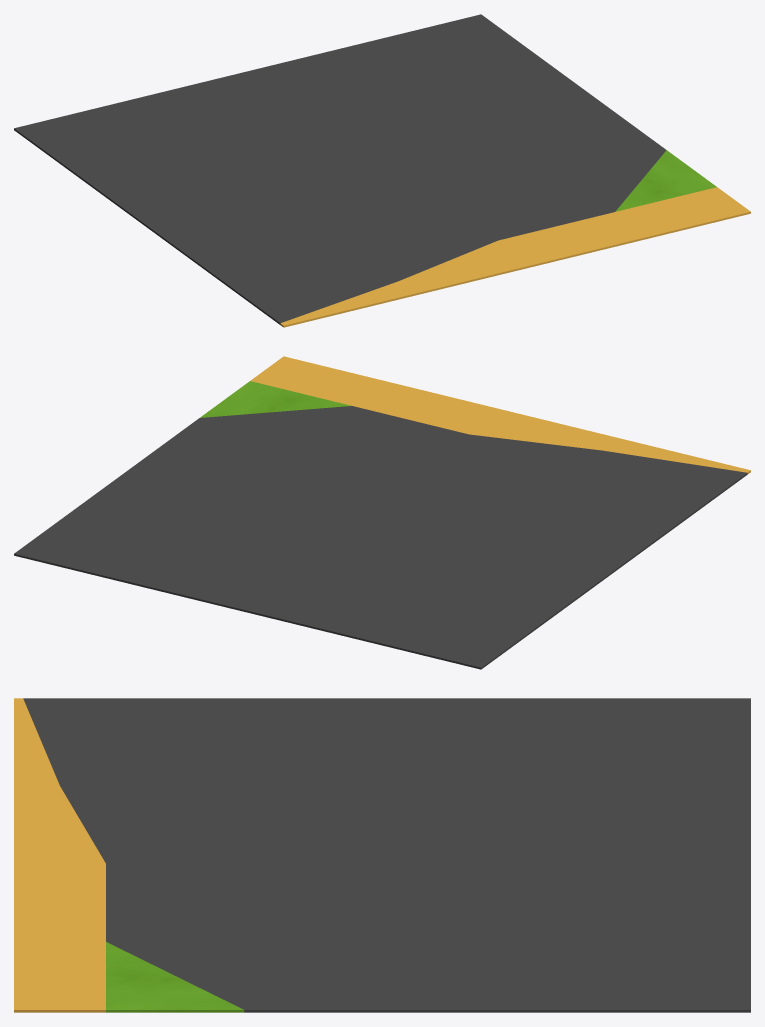
3 views of the same model, one above another, from view 1: azimuth 30°, elevation 25°; view 2: azimuth 150°, elevation 25°; view 3: azimuth 270°, elevation 25° (orthographic). The views are drawn at different scales.
Parts seen in each view (by area): view 1: 01_street_base_plate-COL.038; view 2: 01_street_base_plate-COL.038; view 3: 01_street_base_plate-COL.038.
Boxes of the visible parts, box(x1,y1,x2,y2) form: 01_street_base_plate-COL.038: box(14, 14, 750, 327); 01_street_base_plate-COL.038: box(14, 356, 750, 669); 01_street_base_plate-COL.038: box(14, 698, 750, 1012).
Bounding box in the file's own units: 256 × 1 × 256.
3 materials, 1 textured.
